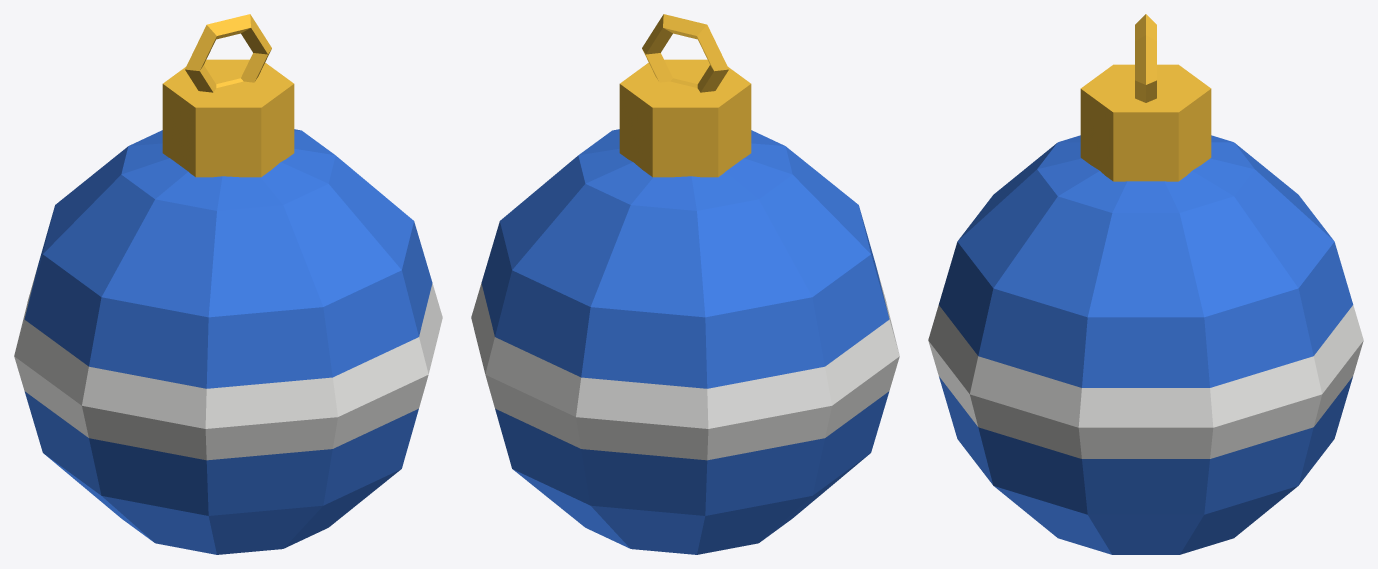
Rendered from BlueOrnament.fbx.
3 renders of one model, left to right at view 1: azimuth 30°, elevation 25°; view 2: azimuth 150°, elevation 25°; view 3: azimuth 270°, elevation 25°, orthographic.
Parts seen in each view (by area): view 1: BlueOrnament; view 2: BlueOrnament; view 3: BlueOrnament.
Boxes of the visible parts, x1=… form: BlueOrnament: x1=14, y1=14, x2=442, y2=554; BlueOrnament: x1=471, y1=14, x2=899, y2=554; BlueOrnament: x1=928, y1=14, x2=1363, y2=554.
Bounding box in the file's own units: 1.9 × 2.6 × 2.
1 material, 1 textured.
